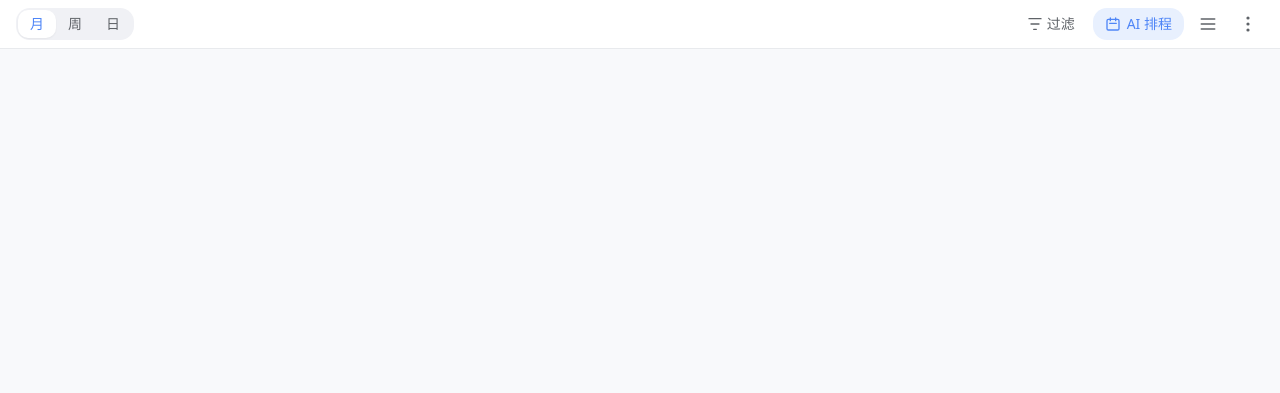
it: CalendarToolbar 日历工具栏 › 过滤菜单打开/关闭 › 再次点击过滤按钮关闭过滤菜单
Click the button with aria-label "日历过滤" at (1051, 24), box [1017,8,1085,40]
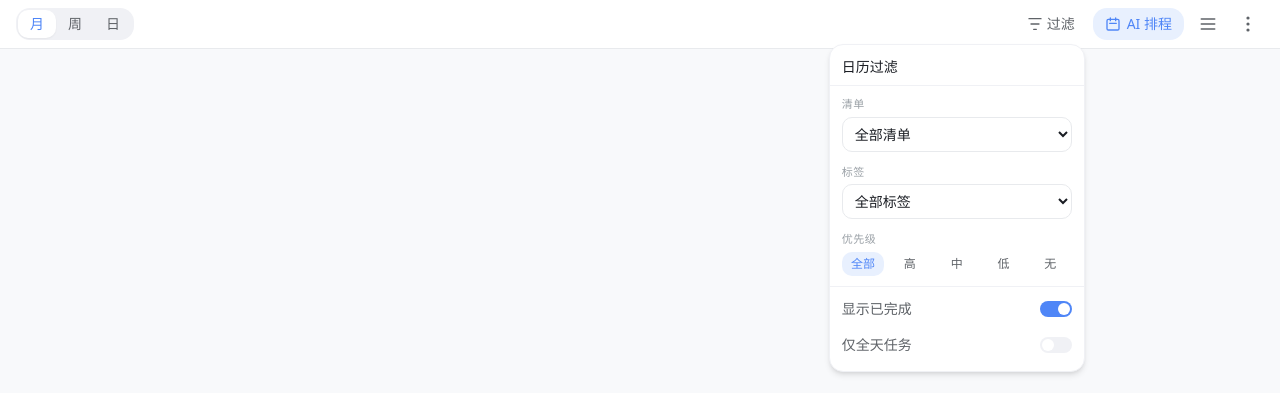
Now the text "清单" is shown, box [842,96,865,111]
Click the button with aria-label "日历过滤" at (1051, 24), box [1017,8,1085,40]
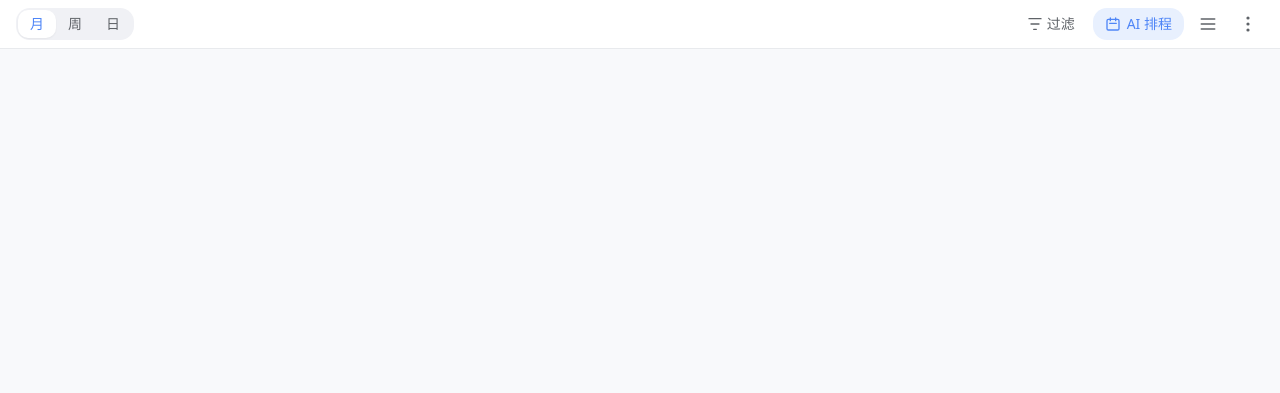
Now the text "清单" is gone
